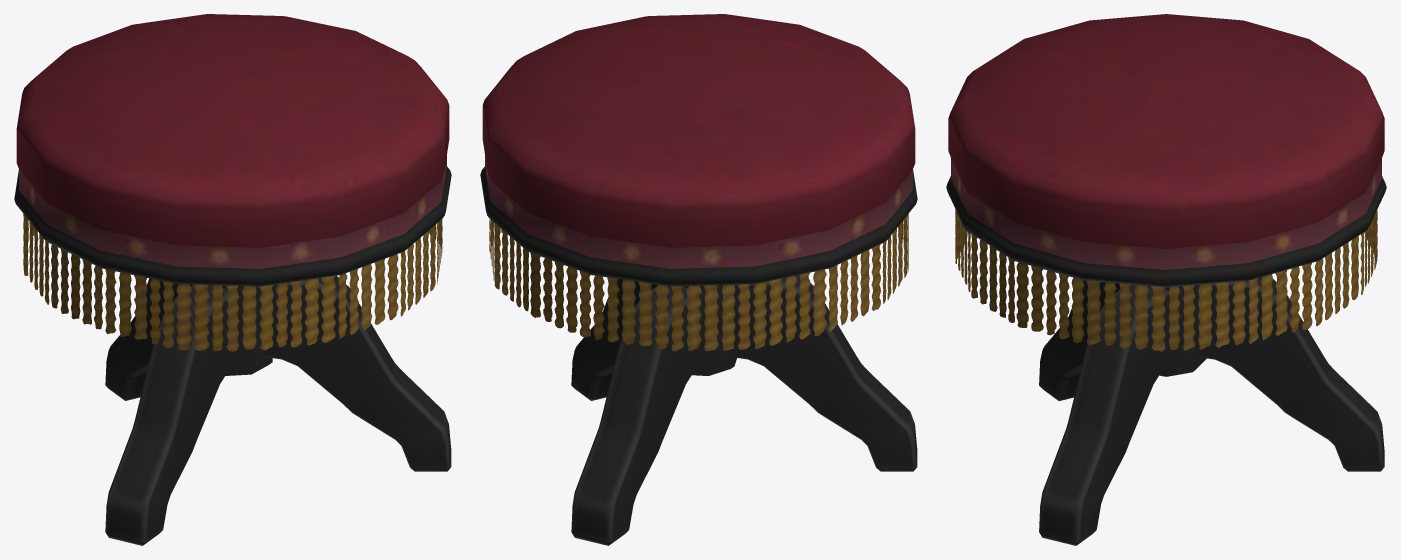
3 views of the same model, side by side, from view 1: azimuth 30°, elevation 25°; view 2: azimuth 150°, elevation 25°; view 3: azimuth 270°, elevation 25° (orthographic).
Size of the model in its own units: 5.43 by 5.41 by 5.43.
Materials: 1 (1 with a texture image).
